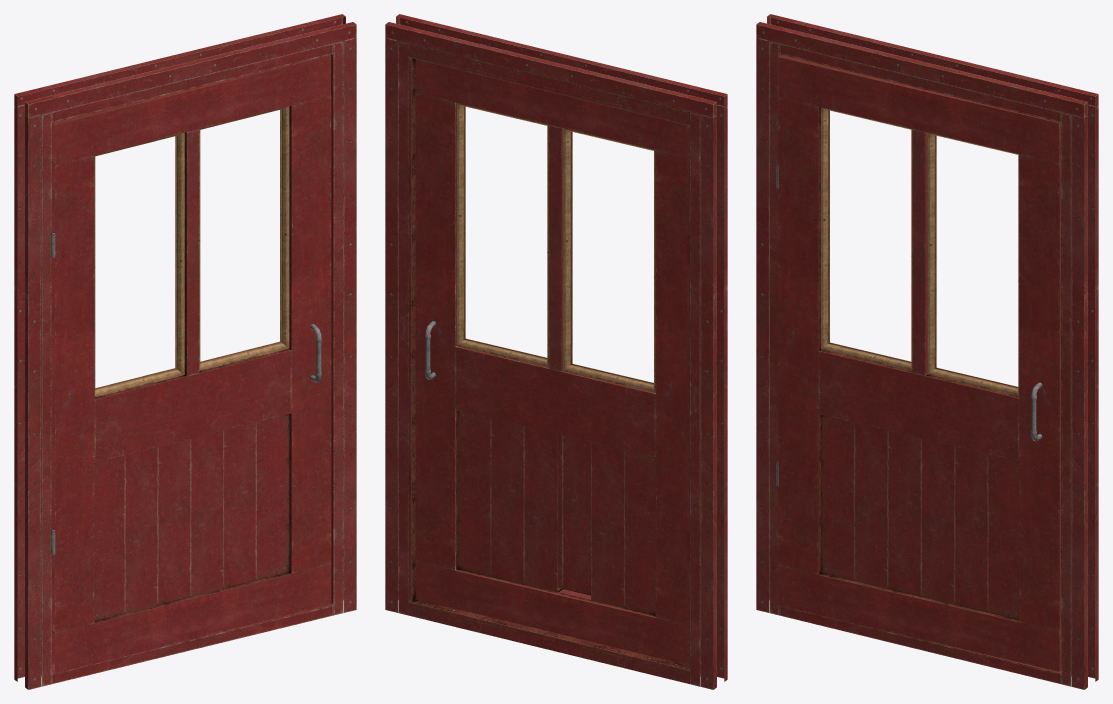
The model's file is Hallway_door.fbx.
3 views of the same model, side by side, from view 1: azimuth 30°, elevation 25°; view 2: azimuth 150°, elevation 25°; view 3: azimuth 330°, elevation 25° (orthographic).
Visible parts, largest first — view 1: Object_2.005; view 2: Object_2.005; view 3: Object_2.005.
Boxes of the visible parts, x1=… form: Object_2.005: x1=14, y1=14, x2=356, y2=689; Object_2.005: x1=385, y1=14, x2=727, y2=689; Object_2.005: x1=756, y1=14, x2=1098, y2=689.
Bounding box in the file's own units: 766 × 1305 × 103.
